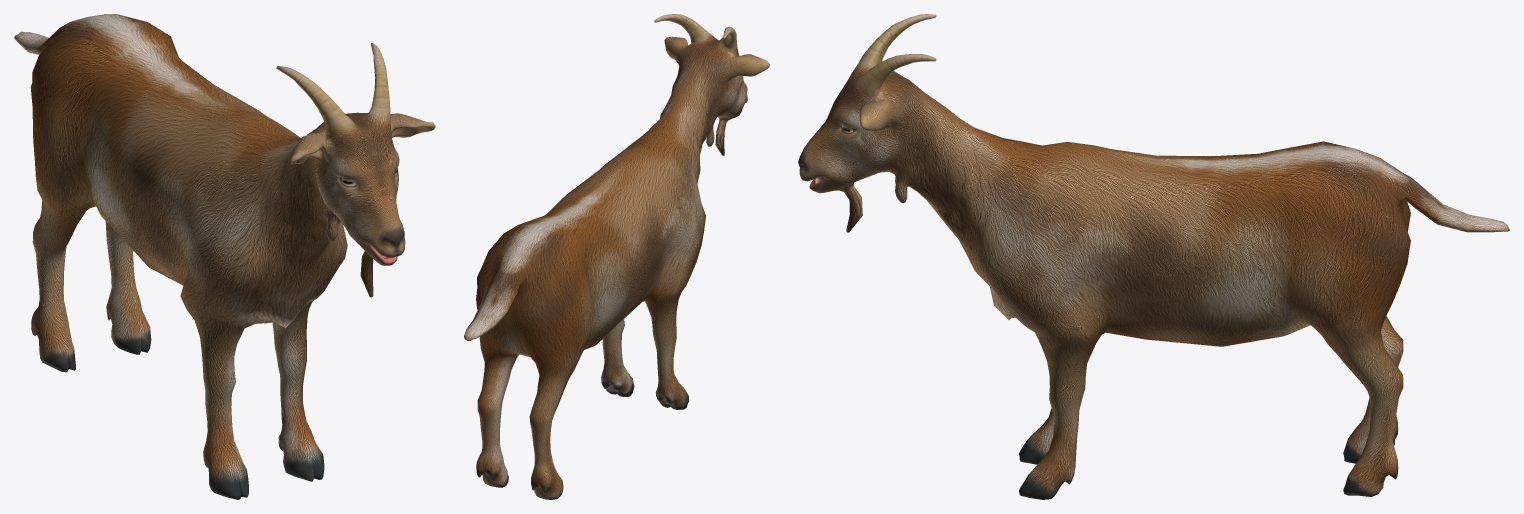
The model's file is goat-subagent.glb.
3 views of the same model, side by side, from view 1: azimuth 30°, elevation 25°; view 2: azimuth 150°, elevation 25°; view 3: azimuth 270°, elevation 25° (orthographic). The views are drawn at different scales.
Visible parts, largest first — view 1: SK_Goat_LOD0; view 2: SK_Goat_LOD0; view 3: SK_Goat_LOD0.
Boxes of the visible parts, <box> form: SK_Goat_LOD0: <box>14,14,435,499</box>; SK_Goat_LOD0: <box>464,14,769,499</box>; SK_Goat_LOD0: <box>798,14,1509,499</box>.
Size of the model in its own units: 0.0706 by 0.2207 by 0.3214.
Materials: 1 (1 with a texture image).
